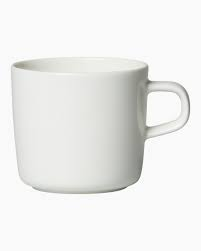cup: (6, 49, 192, 204)
